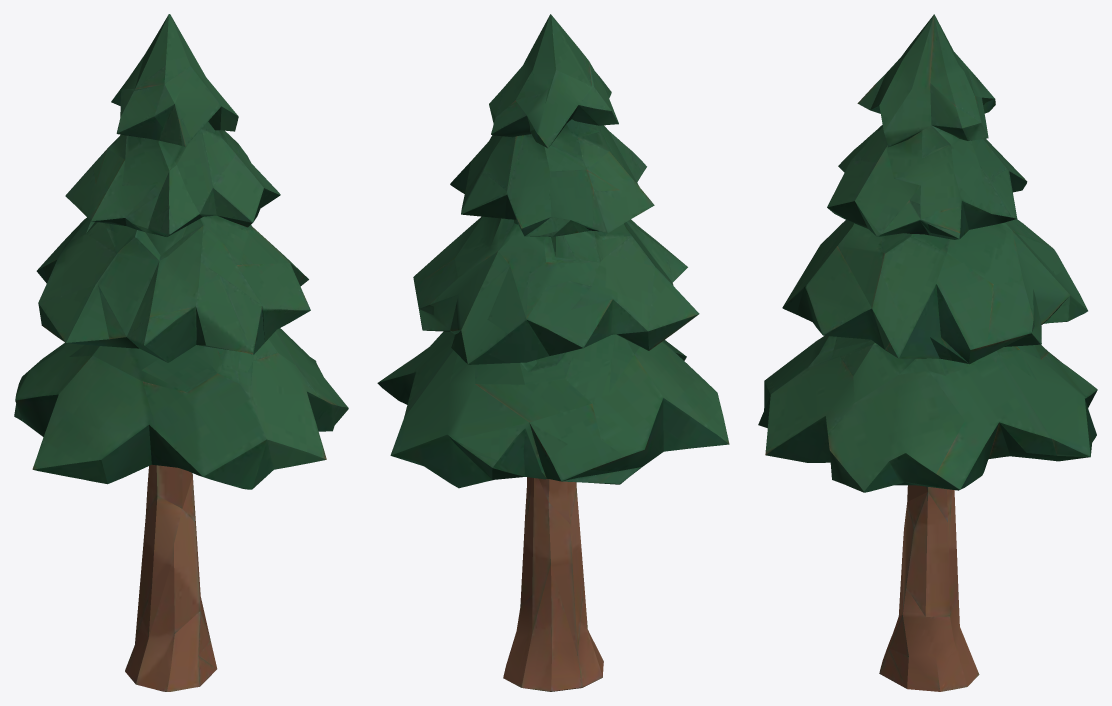
File: tree-pine.glb
3 renders of one model, left to right at view 1: azimuth 30°, elevation 25°; view 2: azimuth 150°, elevation 25°; view 3: azimuth 270°, elevation 25°, orthographic.
Visible parts, largest first — view 1: nature-tree-pine-fit; view 2: nature-tree-pine-fit; view 3: nature-tree-pine-fit.
Boxes of the visible parts, x1=… form: nature-tree-pine-fit: x1=14, y1=14, x2=348, y2=691; nature-tree-pine-fit: x1=377, y1=14, x2=729, y2=691; nature-tree-pine-fit: x1=758, y1=14, x2=1097, y2=691.
Bounding box in the file's own units: 2.3 × 4.55 × 2.13.
1 material, 1 textured.
